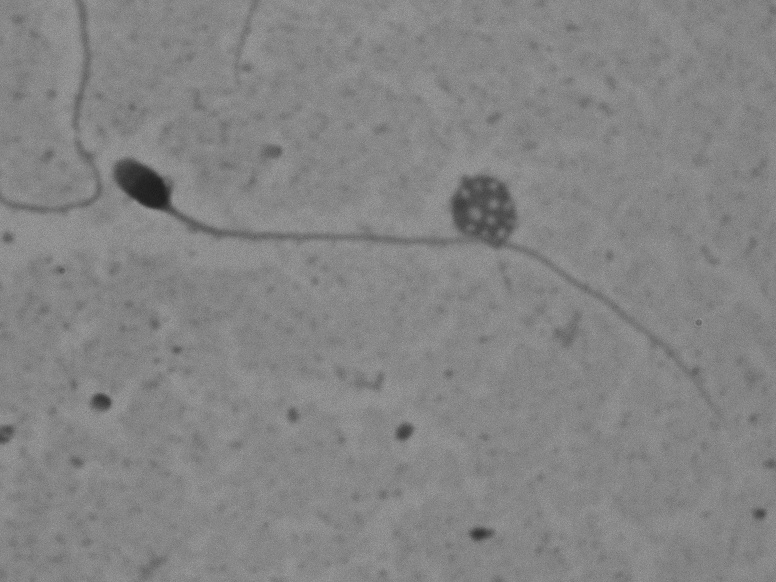Normal: (104, 136, 750, 436)
